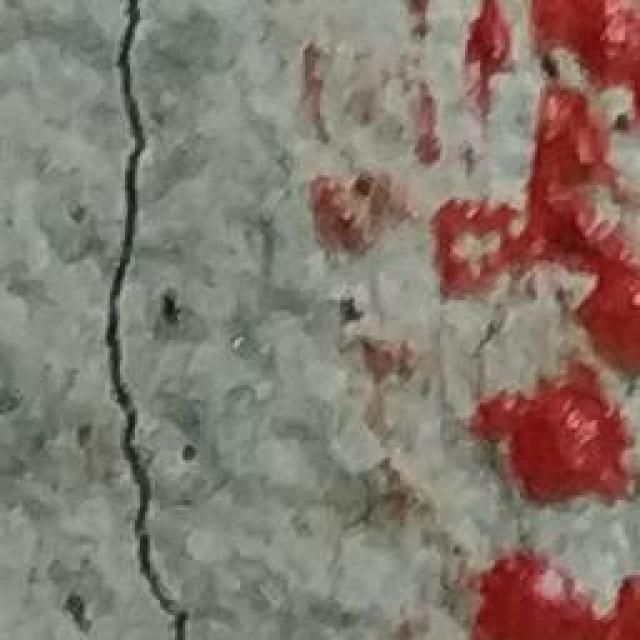Longitudinal: (88, 0, 221, 640)
Rippled: (317, 0, 640, 640)
